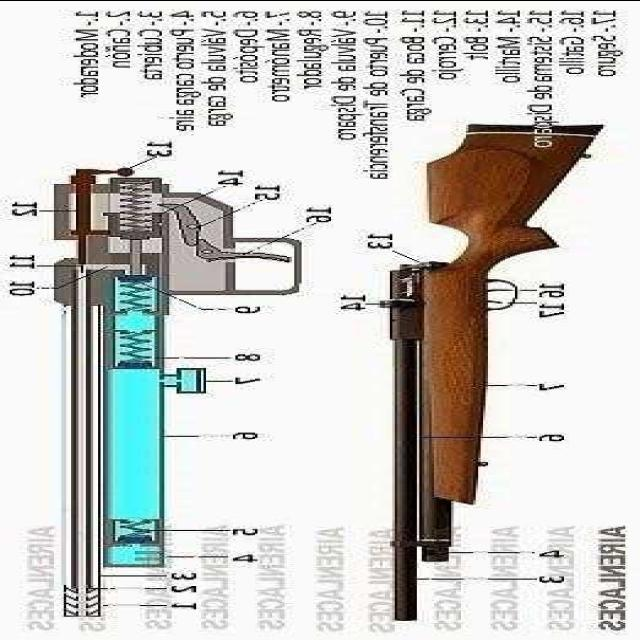heavyweapon: (342, 115, 638, 615)
